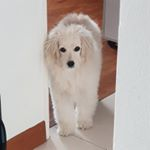puppy: (40, 10, 109, 140)
